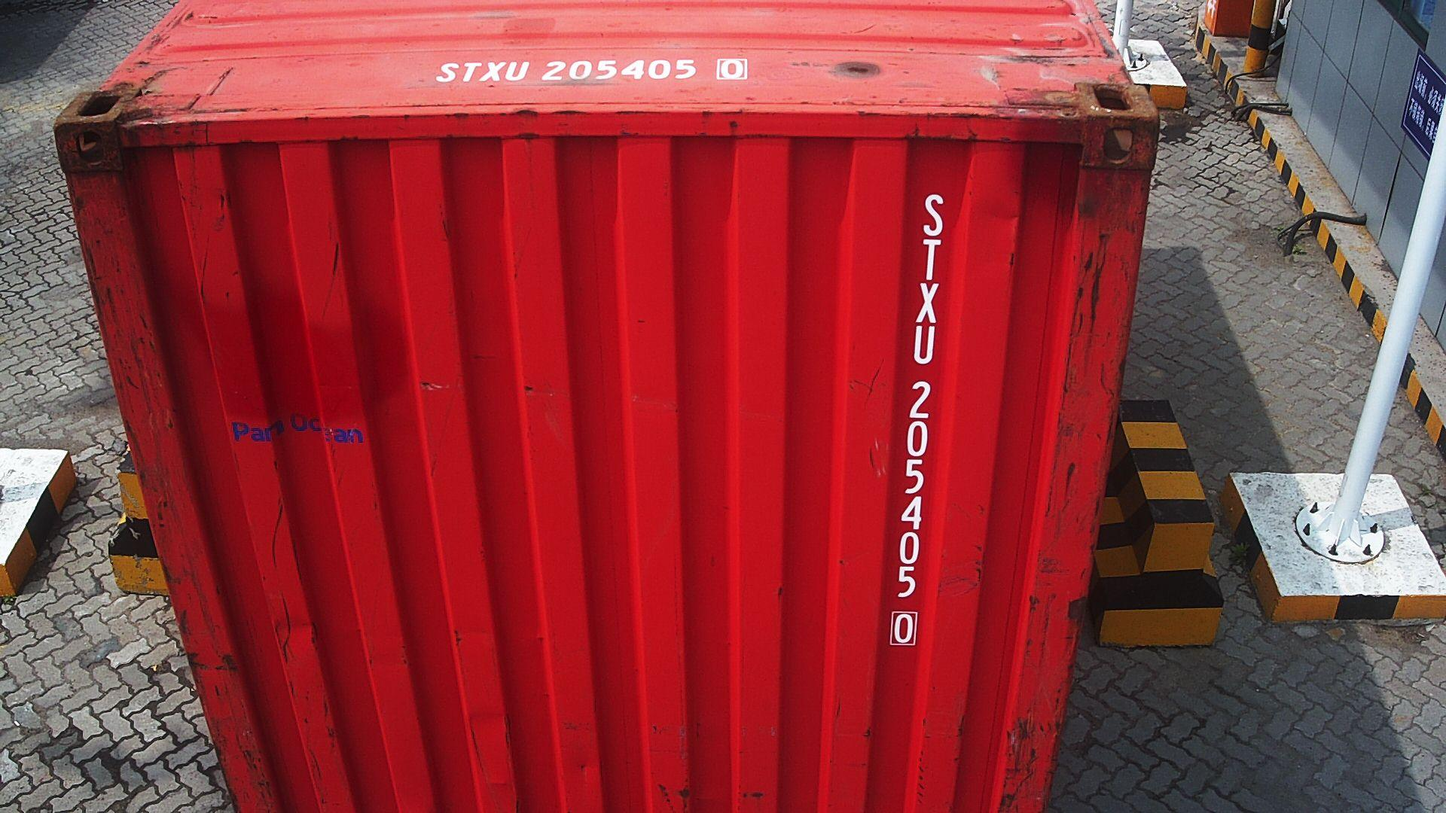container-numbers: (884, 190, 947, 650), (429, 55, 758, 87)
